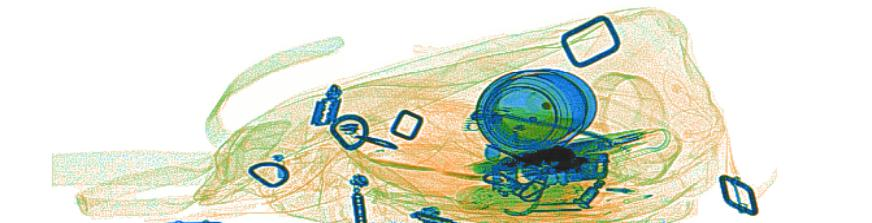knife: (309, 96, 342, 128)
